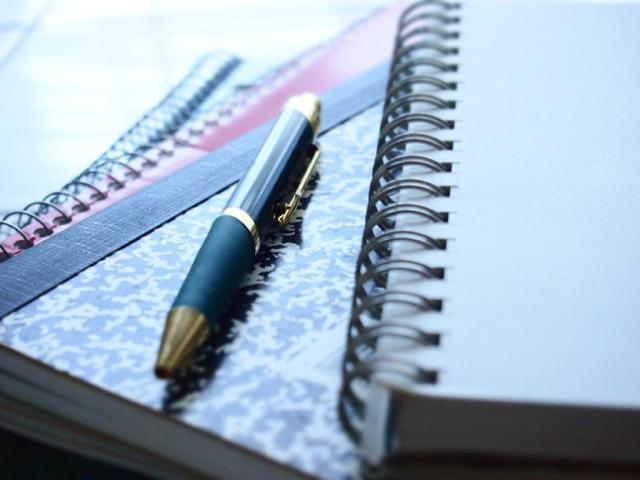PEN: (129, 64, 344, 403)
